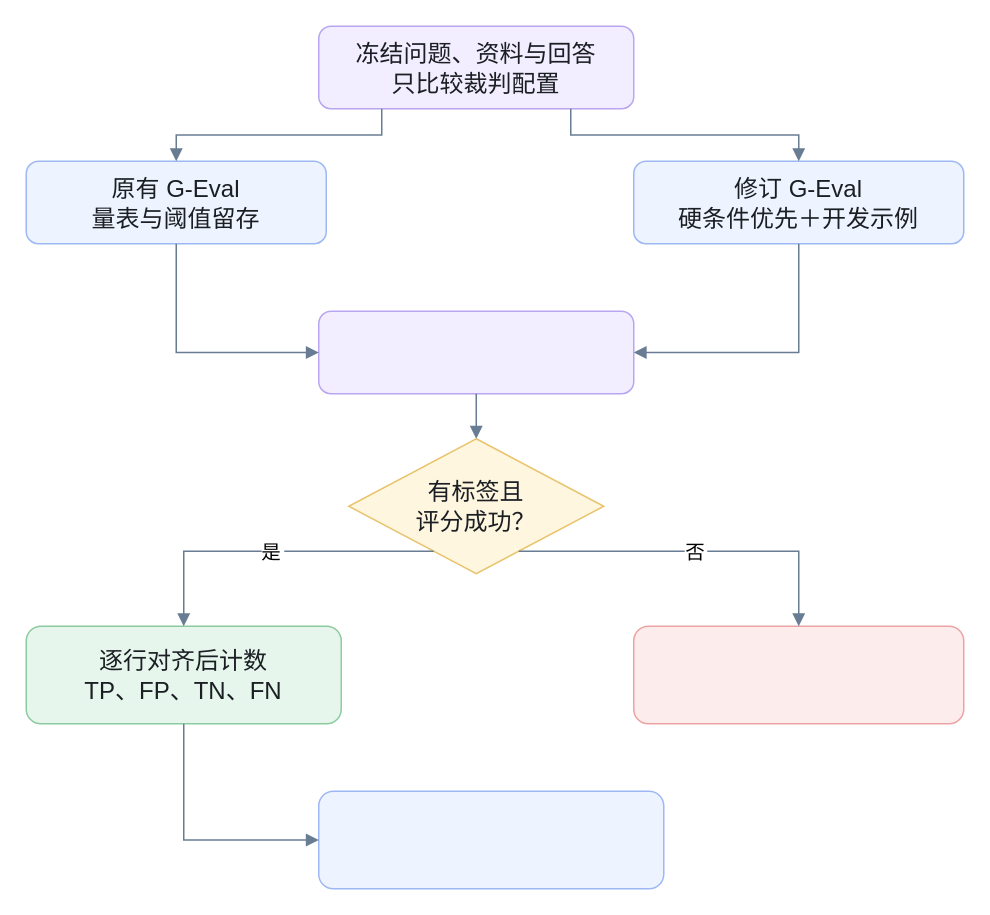
Some shapes in this 990 by 915 pixel diagram are drawn without their labels. The box of each missing label's shape, as (x1, y1, x2, y2) in pixels:
分别保存每条裁决 与参考按样本ID对应: (317, 310, 634, 394)
另看等价语言与篇幅 对调位置，保留原判: (317, 790, 664, 889)
未标注或评分错误 另报覆盖率: (632, 625, 964, 724)
